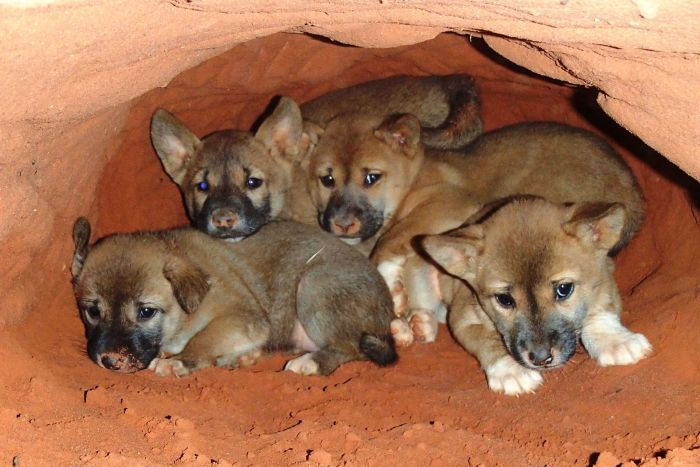dog: (75, 224, 381, 372), (319, 124, 656, 258), (435, 203, 662, 386), (161, 97, 314, 237)
